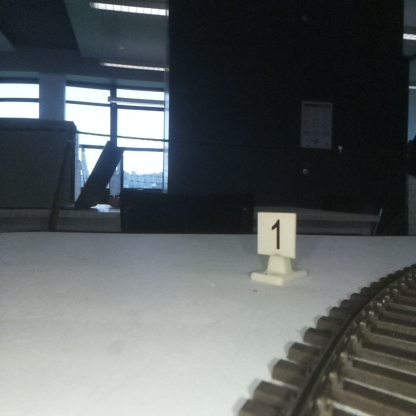white-stop-1: (257, 212, 295, 279)
